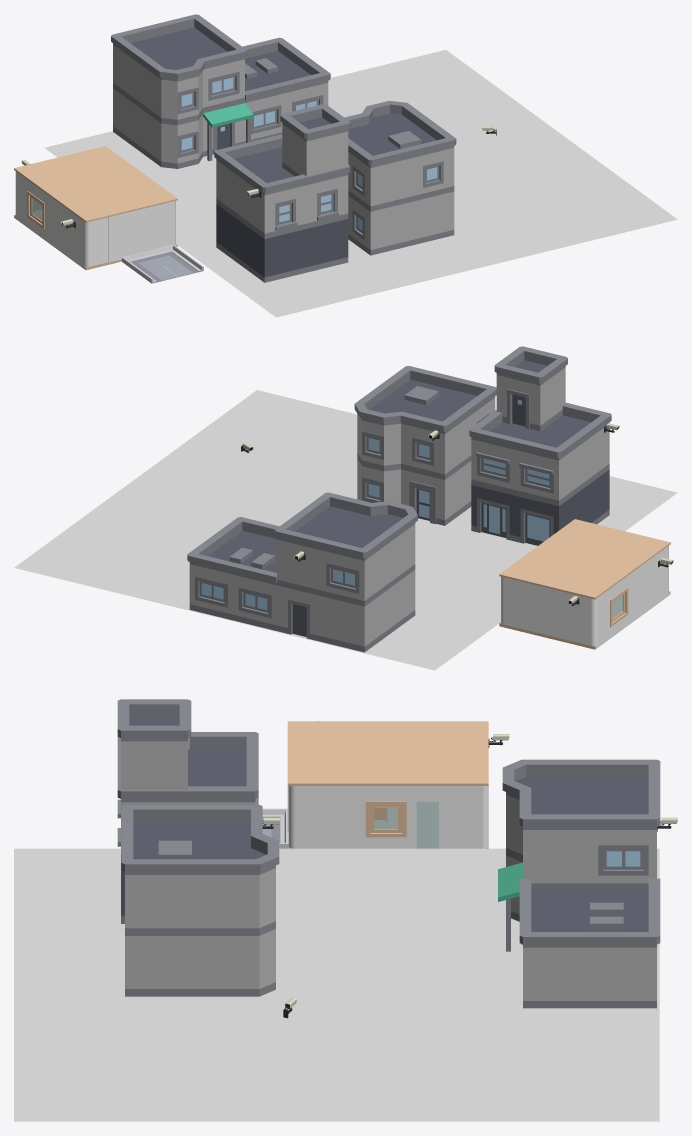
File: notbad2.glb
3 views of the same model, one above another, from view 1: azimuth 30°, elevation 25°; view 2: azimuth 150°, elevation 25°; view 3: azimuth 270°, elevation 25° (orthographic). The views are drawn at different scales.
Visible parts, largest first — view 1: Plane, small_buildingE, small_buildingF, small_buildingB, floorFull(Clone), wallCornerRond(Clone), wall(Clone).001, road_end, wallWindow(Clone).001, wallCornerRond(Clone).005, road_endBarrier, wallCornerRond(Clone).002; view 2: Plane, small_buildingE, small_buildingF, small_buildingB, floorFull(Clone), wallCornerRond(Clone).002, wallWindow(Clone).001, wallCornerRond(Clone), wallCornerRond(Clone).007, Floor.002; view 3: Plane, small_buildingE, small_buildingB, small_buildingF, floorFull(Clone), wallWindow(Clone), wallCornerRond(Clone).005, wallCornerRond(Clone).007, Floor.002, window.
Boxes of the visible parts, x1,y1,x2,y2 form: Plane: [44, 50, 677, 317]; small_buildingE: [111, 14, 330, 168]; small_buildingF: [214, 104, 350, 282]; small_buildingB: [344, 100, 456, 255]; floorFull(Clone): [14, 146, 177, 222]; wallCornerRond(Clone): [57, 202, 107, 266]; wall(Clone).001: [108, 206, 155, 262]; road_end: [122, 249, 203, 283]; wallWindow(Clone).001: [25, 178, 57, 246]; wallCornerRond(Clone).005: [155, 201, 175, 248]; road_endBarrier: [121, 244, 203, 282]; wallCornerRond(Clone).002: [15, 171, 42, 222]; Plane: [14, 390, 677, 670]; small_buildingE: [187, 492, 417, 652]; small_buildingF: [469, 346, 611, 545]; small_buildingB: [354, 366, 496, 525]; floorFull(Clone): [499, 519, 670, 599]; wallCornerRond(Clone).002: [522, 582, 607, 646]; wallWindow(Clone).001: [607, 566, 640, 637]; wallCornerRond(Clone): [640, 546, 668, 613]; wallCornerRond(Clone).007: [501, 576, 522, 628]; Floor.002: [499, 591, 670, 649]; Plane: [14, 848, 659, 1121]; small_buildingE: [498, 759, 660, 1008]; small_buildingB: [121, 804, 279, 996]; small_buildingF: [117, 699, 258, 923]; floorFull(Clone): [287, 721, 488, 785]; wallWindow(Clone): [344, 786, 416, 848]; wallCornerRond(Clone).005: [288, 786, 344, 848]; wallCornerRond(Clone).007: [439, 786, 488, 848]; Floor.002: [288, 802, 488, 848]; window: [370, 804, 402, 832].
Bounding box in the file's own units: 63.02 × 16.96 × 51.43.
